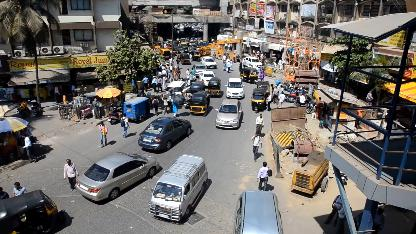auto-rikshaw: (190, 91, 210, 115), (252, 89, 268, 113), (207, 78, 220, 97)
car: (77, 150, 159, 202), (150, 155, 209, 221), (136, 117, 193, 151), (216, 98, 244, 130), (224, 77, 245, 99)
